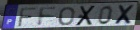0: (97, 5, 114, 26)
F: (16, 7, 38, 28), (37, 7, 59, 28)
O: (58, 6, 76, 27)
X: (75, 5, 98, 27), (113, 4, 136, 25)
